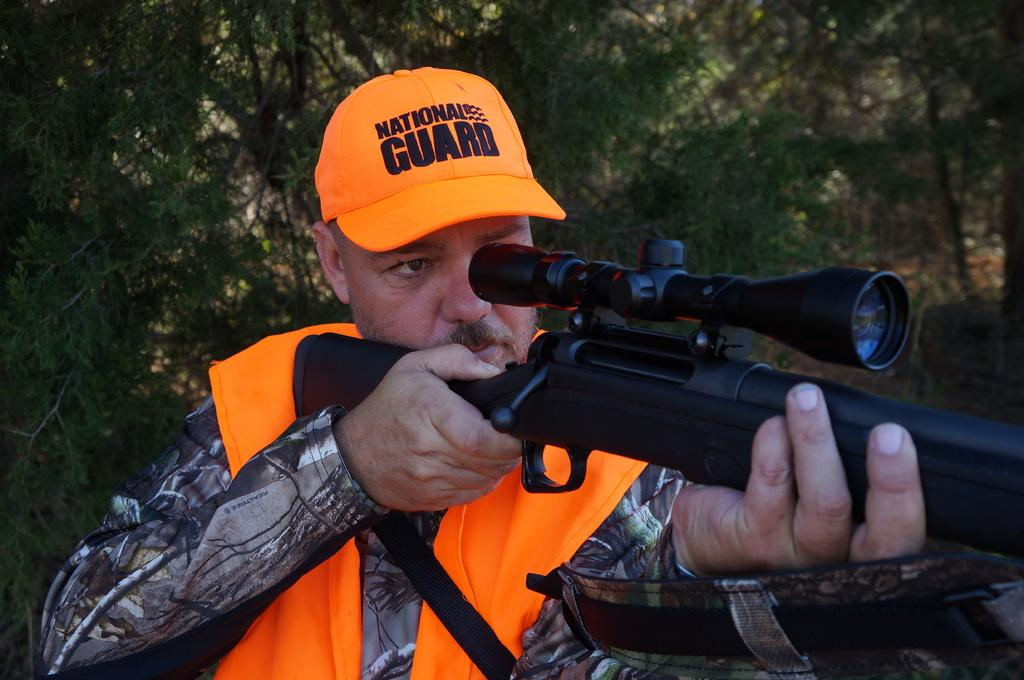Hat: (313, 66, 566, 253)
